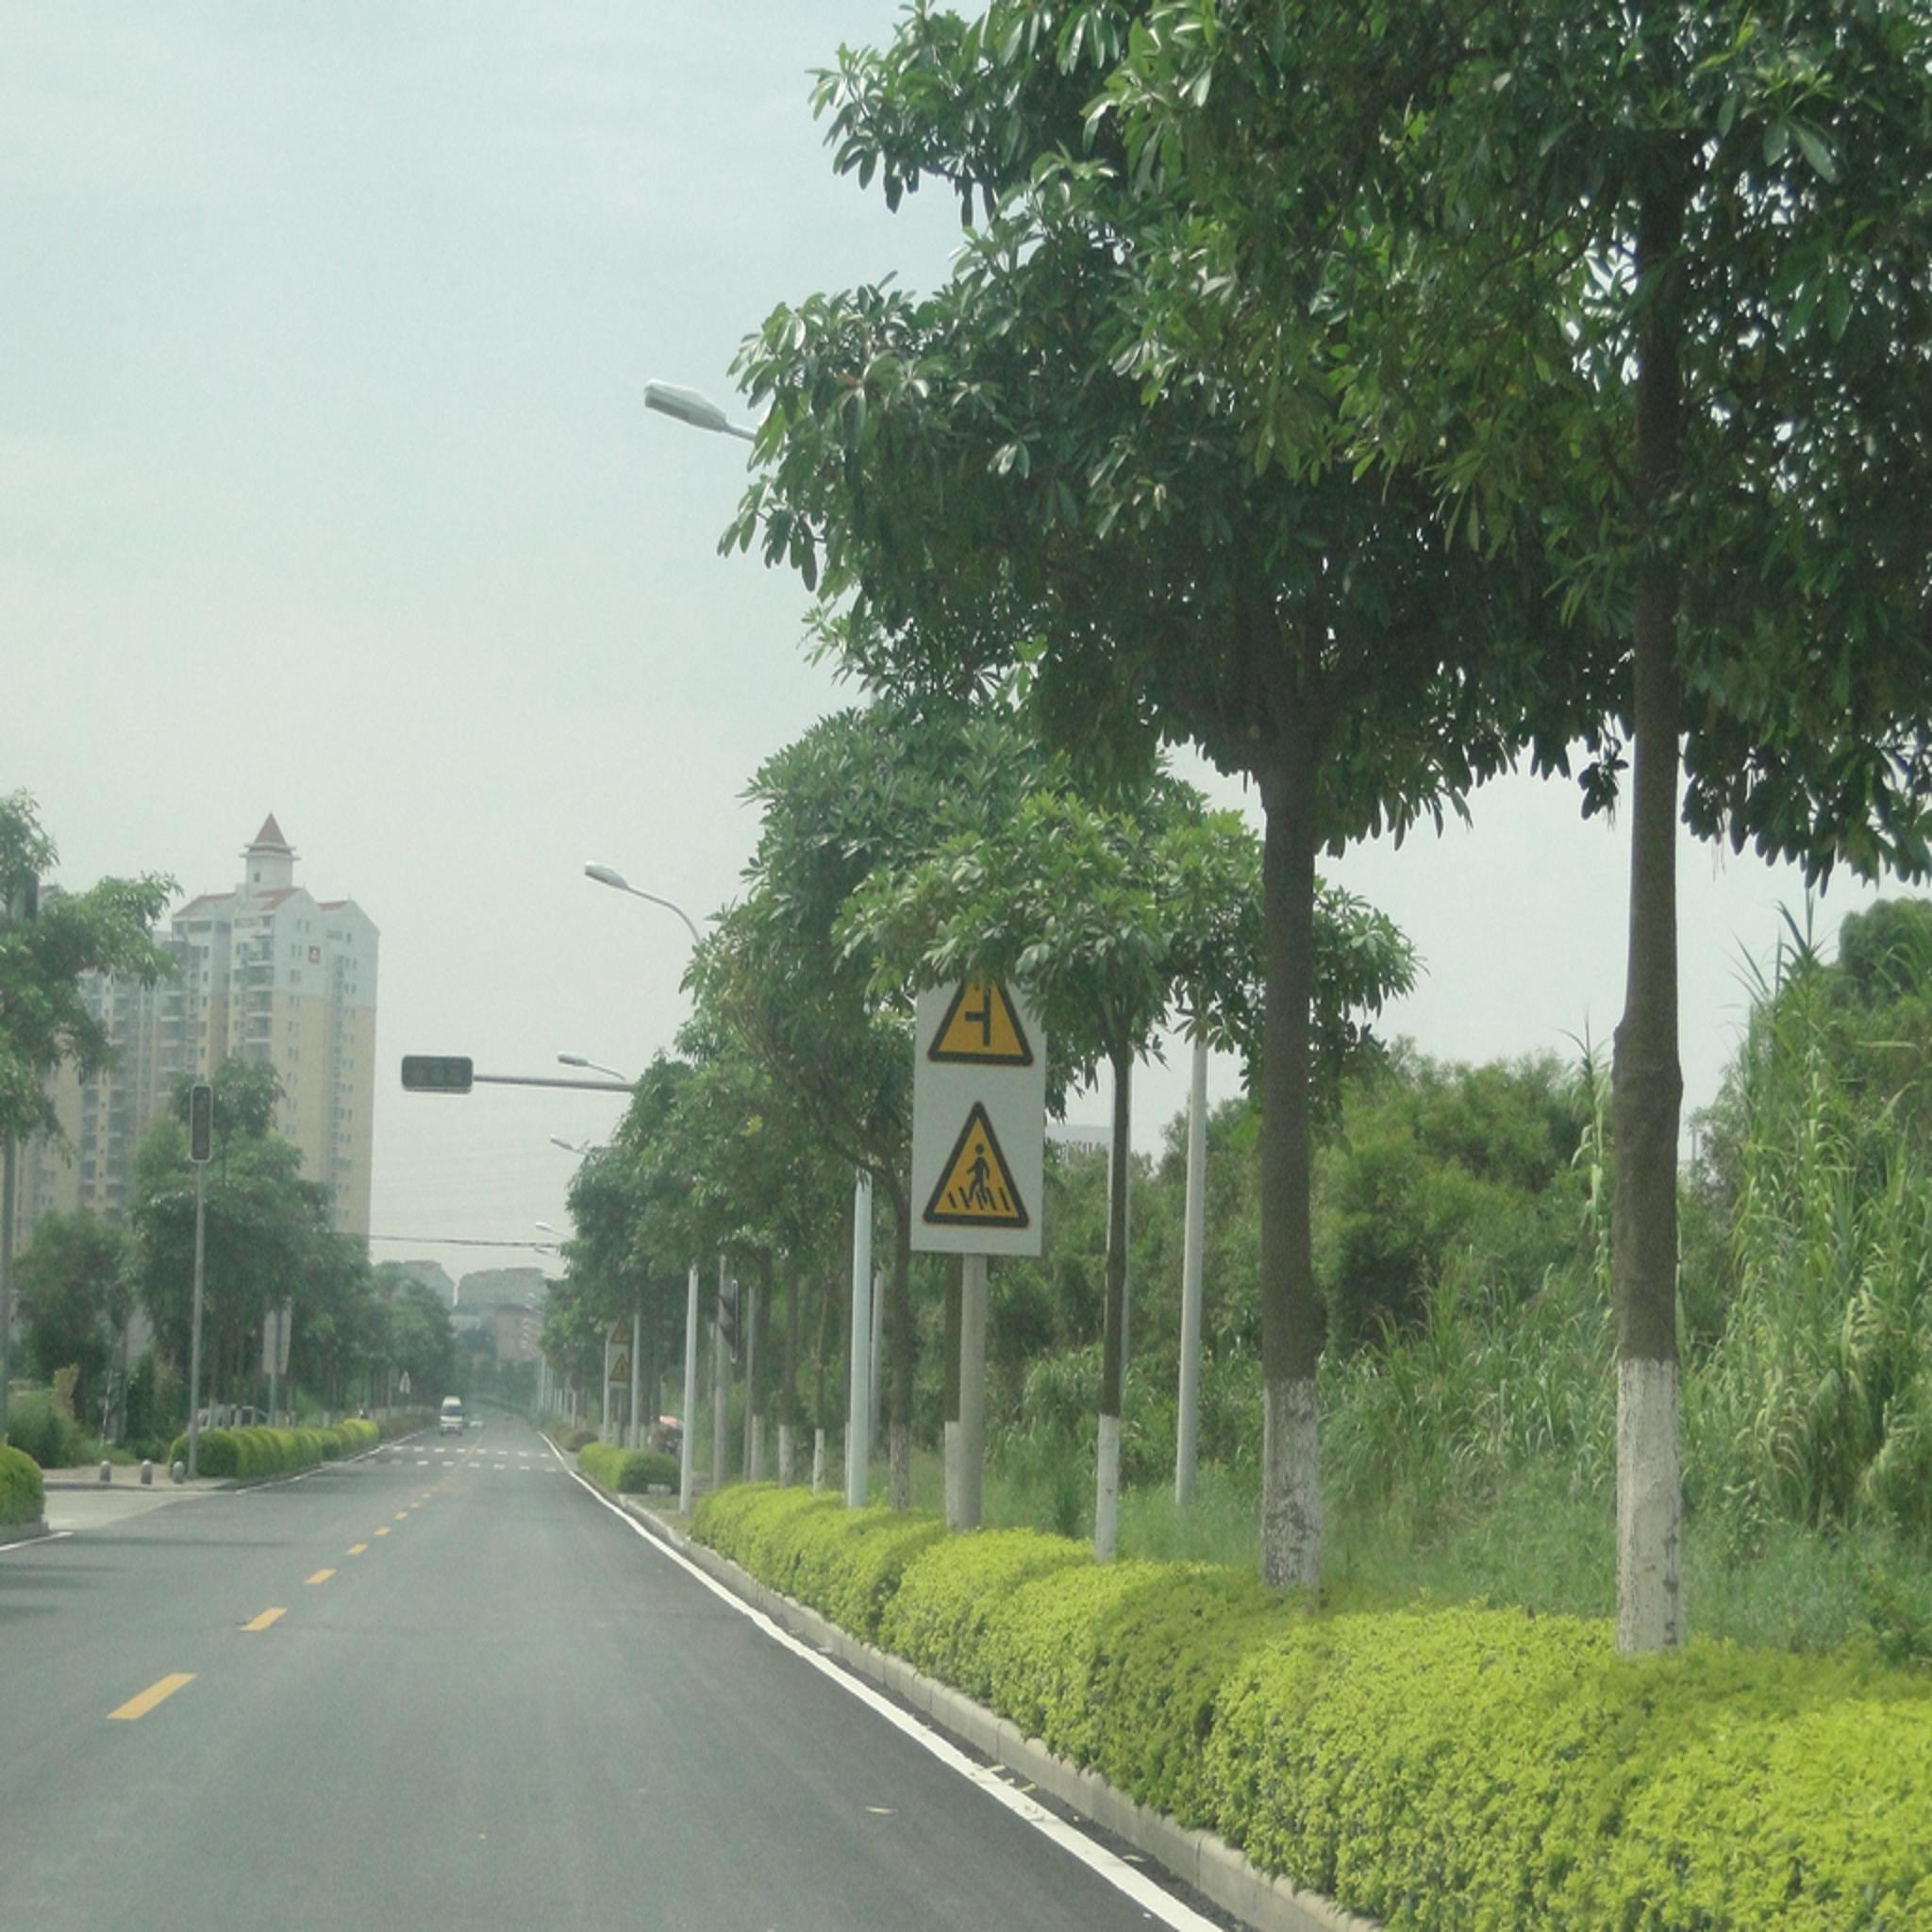w57: (925, 1104, 1026, 1238)
